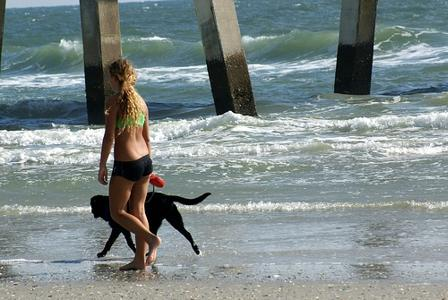person: (98, 59, 162, 273)
